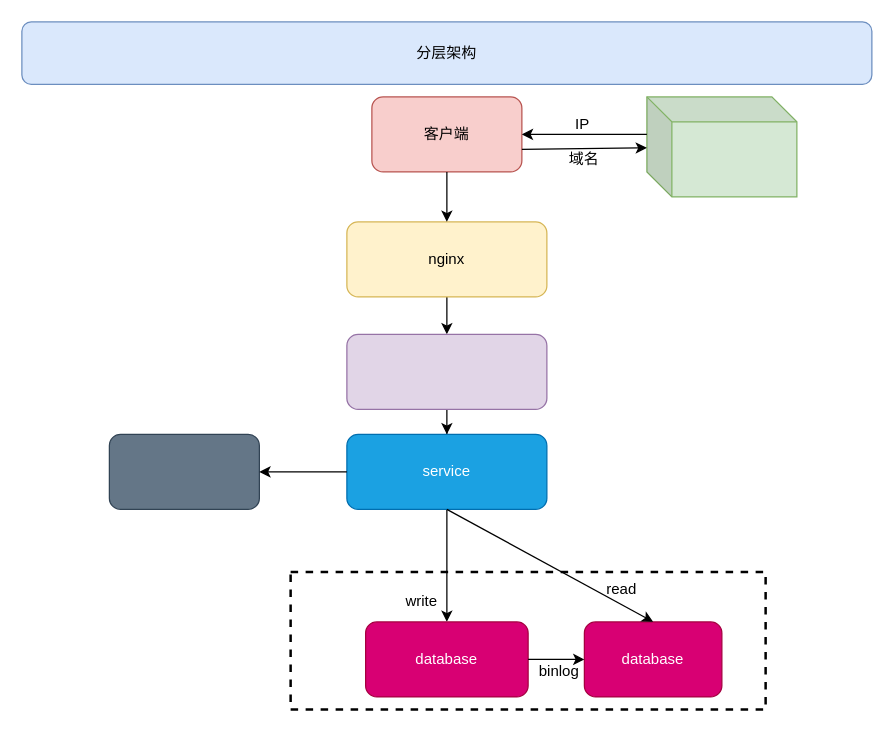
Some shapes in this 894 by 733 pixel diagram are drawn without their labels. The centre of each missing label's shape, as x and y in pixels:
cache: point 183,471
DNS: point 721,146
web-server: point 446,371
